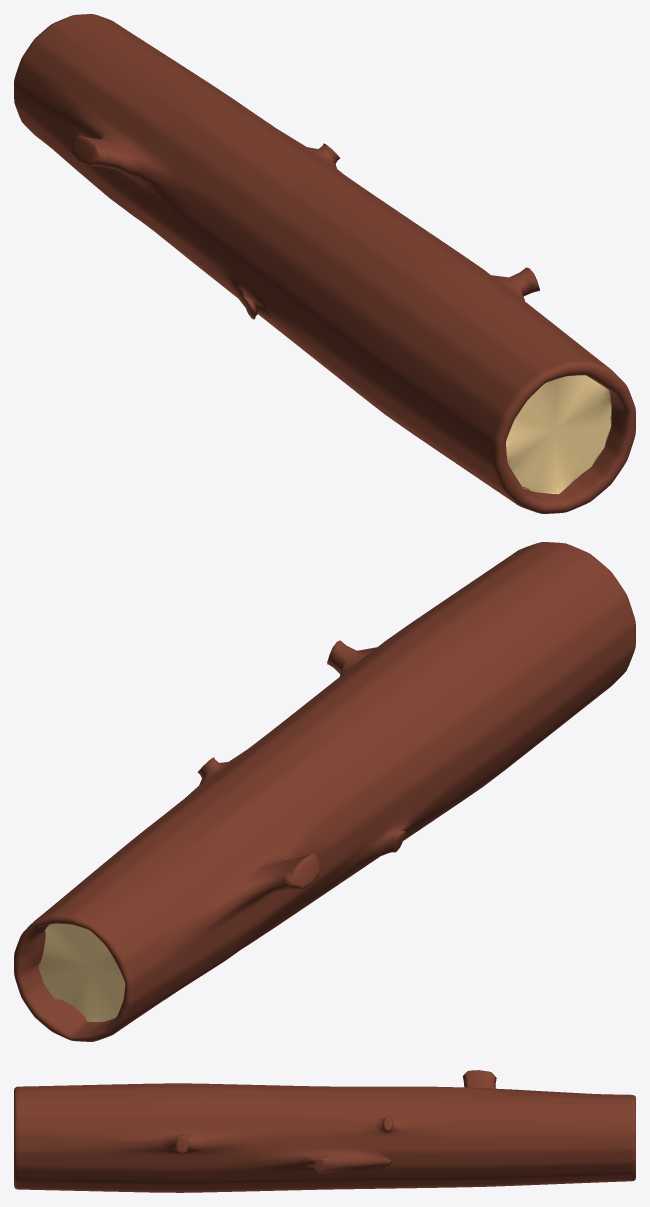
The model's file is Log1_file.fbx.
3 renders of one model, top to bottom at view 1: azimuth 30°, elevation 25°; view 2: azimuth 150°, elevation 25°; view 3: azimuth 270°, elevation 25°, orthographic. The views are drawn at different scales.
Parts seen in each view (by area): view 1: Cylinder, Cylinder.001; view 2: Cylinder, Cylinder.002; view 3: Cylinder.
Part boxes in pixels (x1,y1,x2,y2): Cylinder: [14, 14, 635, 513]; Cylinder.001: [506, 375, 611, 494]; Cylinder: [14, 542, 635, 1041]; Cylinder.002: [39, 923, 125, 1021]; Cylinder: [14, 1070, 635, 1192].
Size of the model in its own units: 307 by 212 by 1197.
